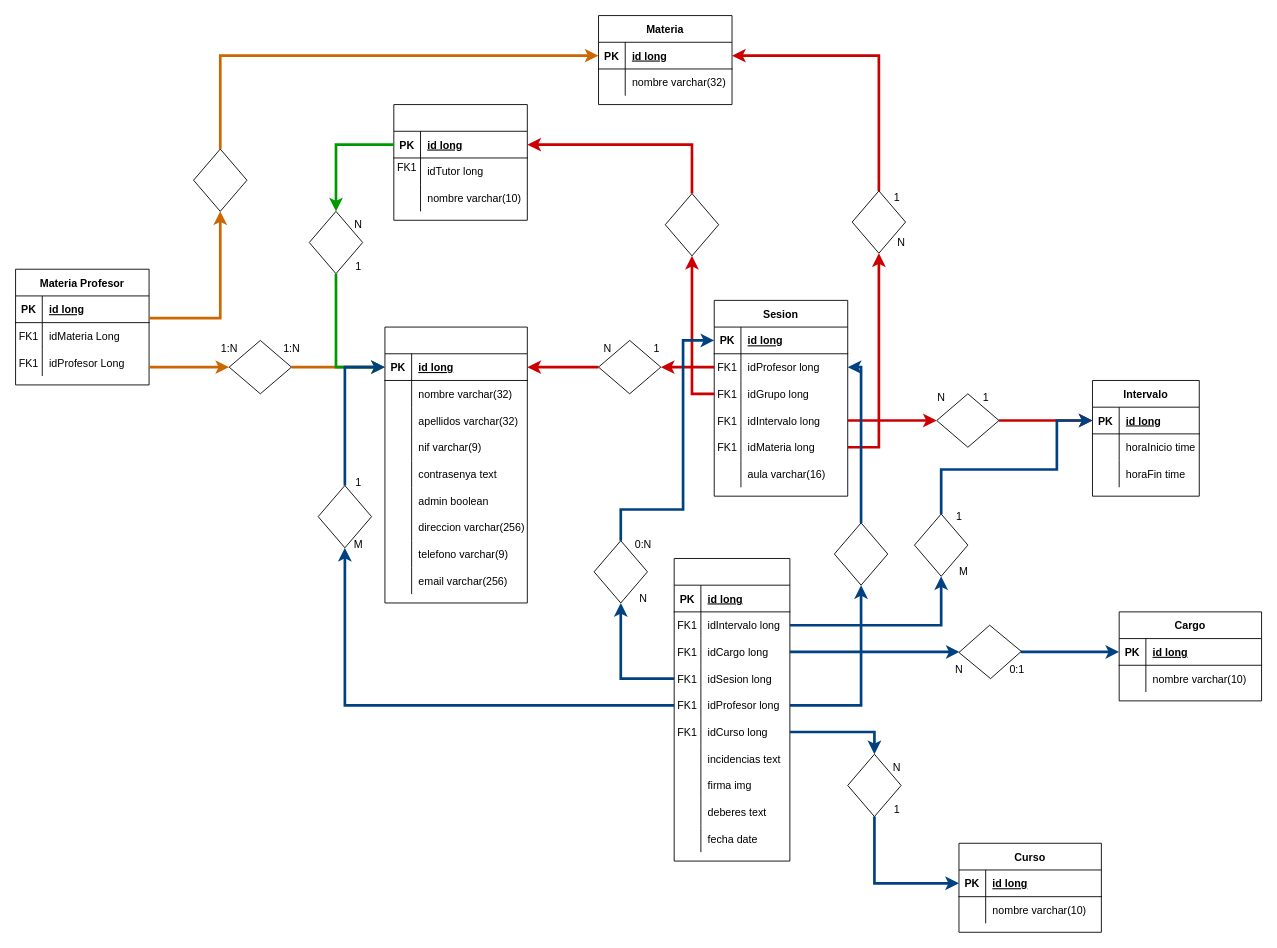
Some shapes in this 1277 by 948 pixel diagram are drawn without their labels. Each missing label, with the box of its shape:
Cuadrante: (673, 558, 790, 861)
Grupo: (393, 104, 527, 220)
Profesor: (384, 326, 527, 603)
